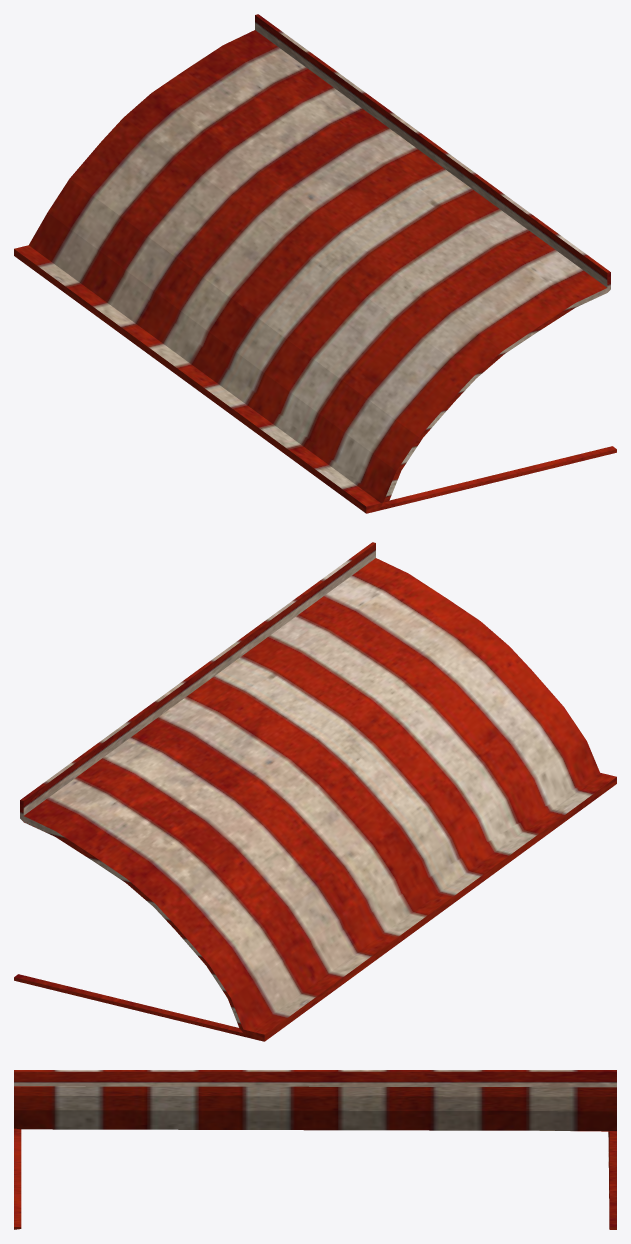
File: roof3.FBX
3 renders of one model, top to bottom at view 1: azimuth 30°, elevation 25°; view 2: azimuth 150°, elevation 25°; view 3: azimuth 270°, elevation 25°, orthographic. The views are drawn at different scales.
Visible parts, largest first — view 1: Box001; view 2: Box001; view 3: Box001.
Part boxes in pixels (x1,y1,x2,y2): Box001: [14, 14, 616, 513]; Box001: [14, 542, 616, 1041]; Box001: [14, 1070, 616, 1229].
Bounding box in the file's own units: 12.55 × 8.71 × 30.57.
